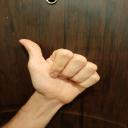ThumbsUp: (20, 38, 102, 105)
